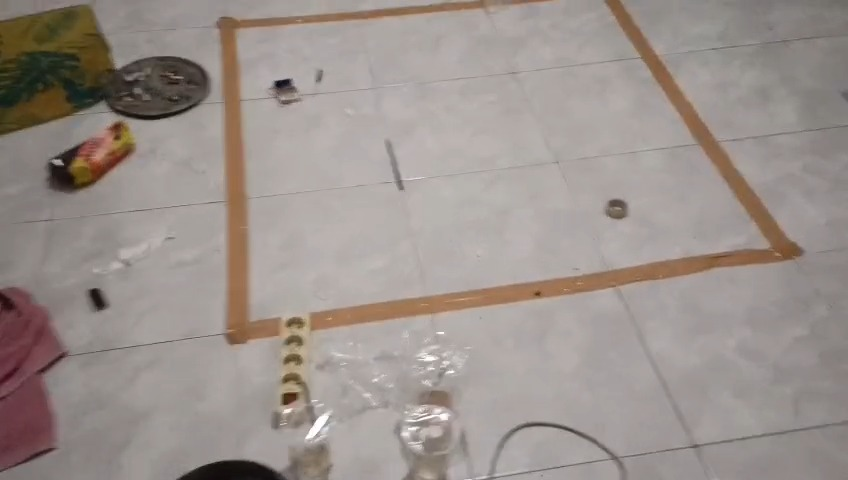floor marking: (311, 0, 802, 327), (219, 0, 484, 343)
